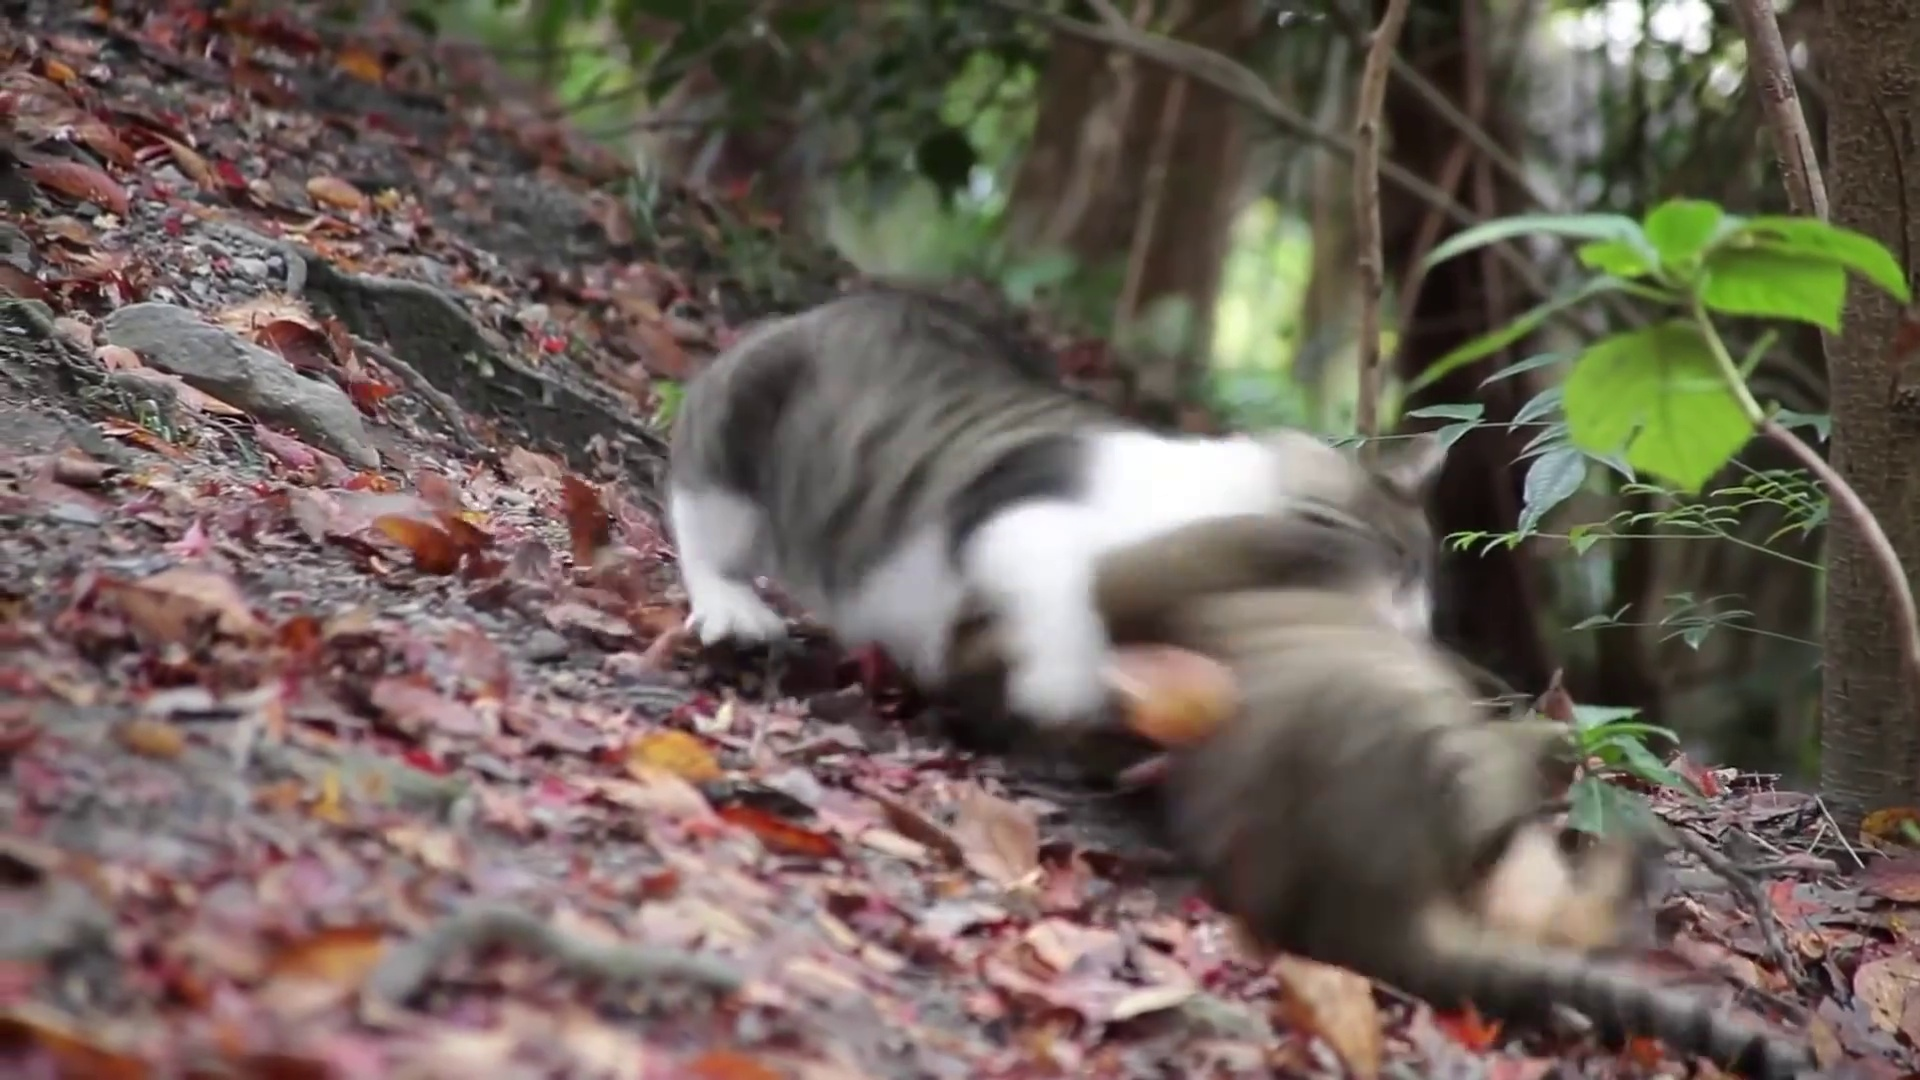black-white: (667, 294, 1431, 717)
pure black: (1096, 512, 1811, 1077)
